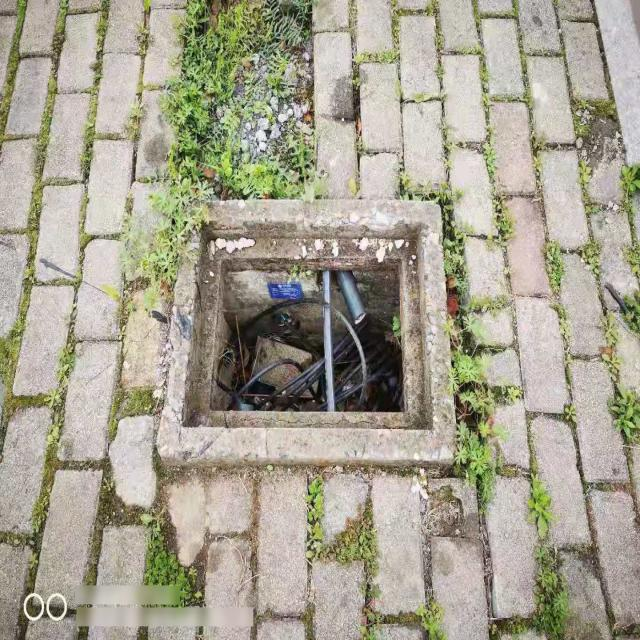Uncovered: (158, 194, 457, 464)
